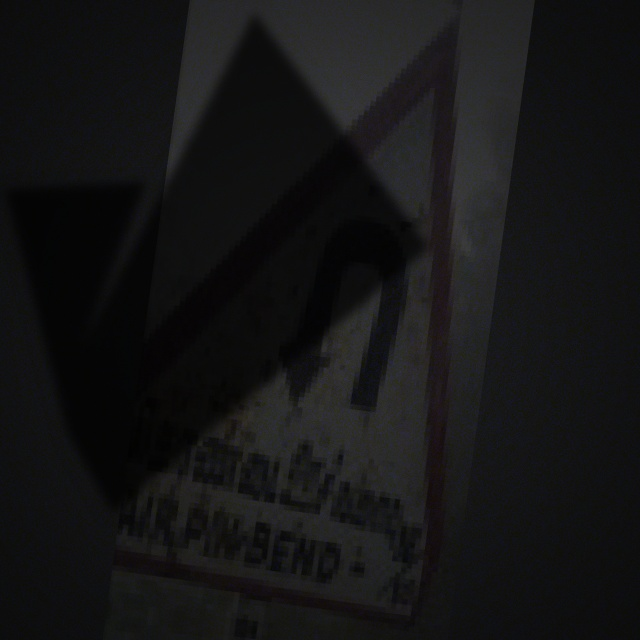Left_Hair_Pin_Bend: (234, 178, 464, 446)
